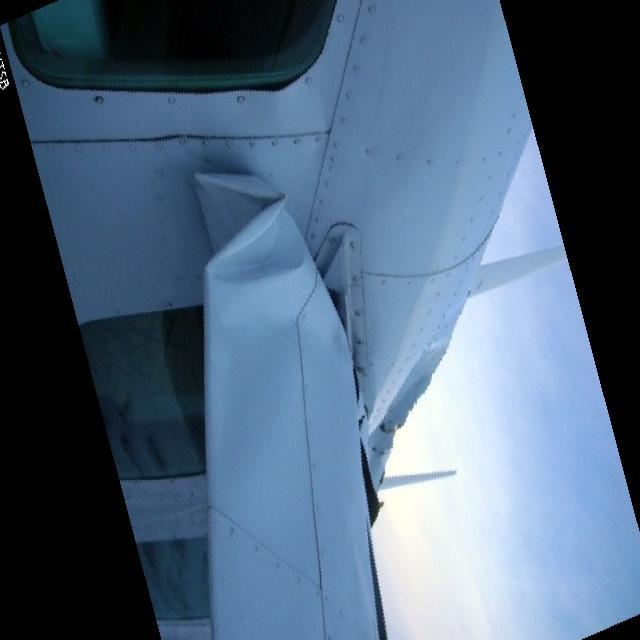dent: (195, 169, 306, 299)
